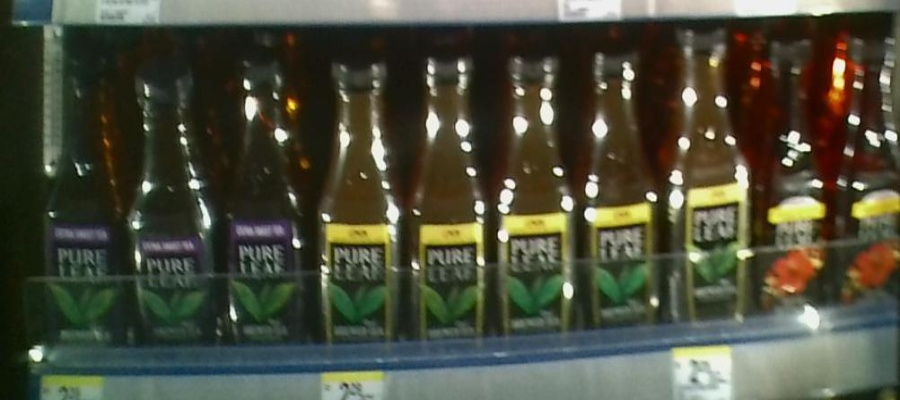bottle: (218, 49, 314, 347), (122, 52, 217, 349), (314, 55, 408, 346), (408, 52, 500, 346), (669, 23, 754, 338), (584, 55, 668, 341), (755, 28, 834, 331), (43, 54, 124, 342), (501, 53, 582, 339), (826, 23, 887, 327)
